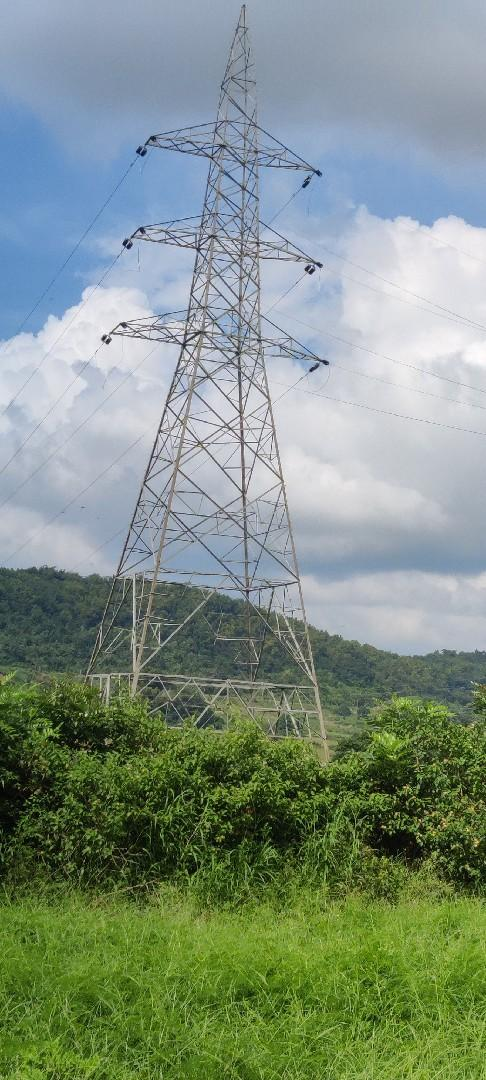GSM Antenna: (80, 1, 341, 690)
